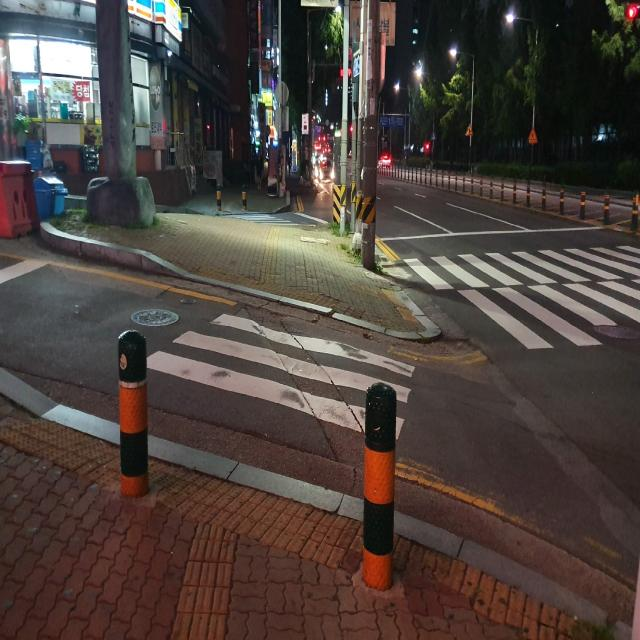횡단보도: (145, 310, 417, 443), (402, 242, 640, 354)
